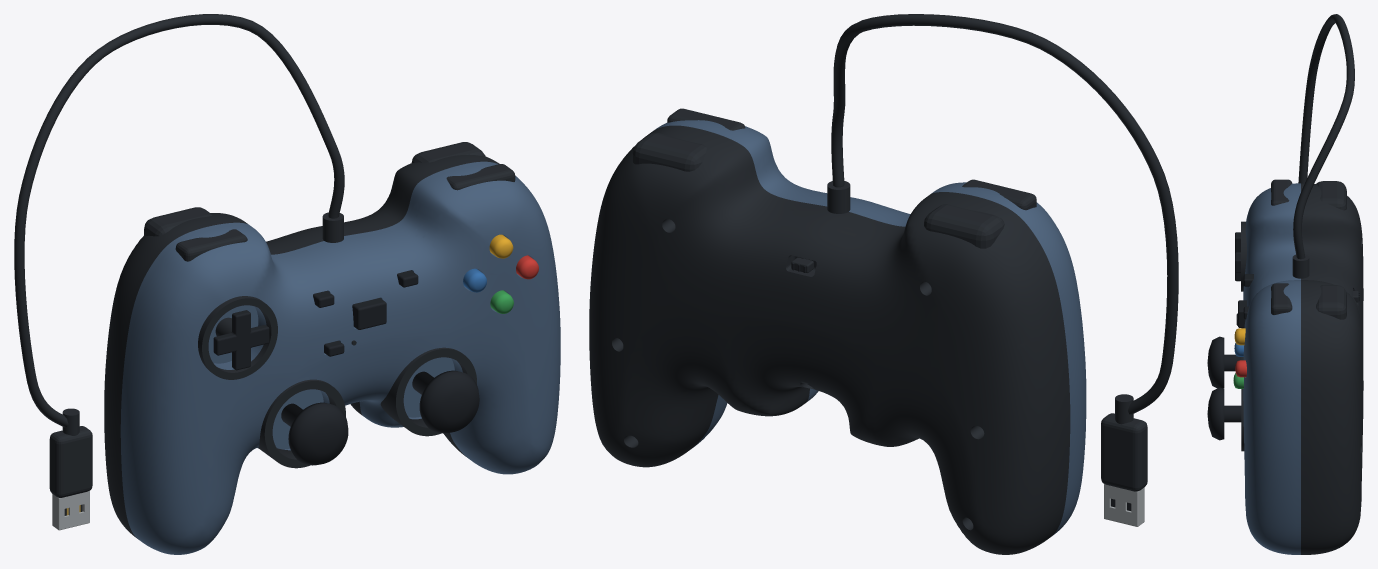
3 renders of one model, left to right at view 1: azimuth 30°, elevation 25°; view 2: azimuth 150°, elevation 25°; view 3: azimuth 270°, elevation 25°, orthographic. The views are drawn at different scales.
Parts seen in each view (by area): view 1: Unified closed two-tone controller shell, Complete fixed controller cable, Captured analog stick and domed cap -0.025, Captured analog stick and domed cap 0.025, Generic USB cable plug molding, Circular D pad surround, Complete analog stick socket 0.025, Complete analog stick socket -0.025, Unmarked raised cross D pad, Generic hollow USB A plug shell, Upper shoulder bumper -0.051, Rear curved trigger -0.051 (+3 smaller); view 2: Unified closed two-tone controller shell, Complete fixed controller cable, Generic USB cable plug molding, Rear curved trigger -0.051, Rear curved trigger 0.051, Generic hollow USB A plug shell, Upper shoulder bumper -0.051; view 3: Unified closed two-tone controller shell, Complete fixed controller cable, Captured analog stick and domed cap 0.025, Captured analog stick and domed cap -0.025, Rear curved trigger 0.051, Rear curved trigger -0.051, Upper shoulder bumper 0.051, Upper shoulder bumper -0.051, Captured cable exit strain relief, Circular D pad surround, Unmarked raised cross D pad.
Boxes of the visible parts, x1,y1,x2,y2 form: Unified closed two-tone controller shell: (104, 154, 560, 554); Complete fixed controller cable: (14, 14, 344, 427); Captured analog stick and domed cap -0.025: (281, 402, 348, 465); Captured analog stick and domed cap 0.025: (412, 370, 479, 433); Generic USB cable plug molding: (49, 426, 92, 497); Circular D pad surround: (198, 296, 277, 379); Complete analog stick socket 0.025: (380, 347, 476, 436); Complete analog stick socket -0.025: (258, 379, 345, 468); Unmarked raised cross D pad: (213, 310, 269, 370); Generic hollow USB A plug shell: (52, 490, 89, 530); Upper shoulder bumper -0.051: (175, 229, 247, 261); Rear curved trigger -0.051: (144, 207, 212, 236); Unified closed two-tone controller shell: (589, 120, 1086, 554); Complete fixed controller cable: (831, 14, 1178, 414); Generic USB cable plug molding: (1101, 413, 1147, 491); Rear curved trigger -0.051: (924, 204, 1004, 248); Rear curved trigger 0.051: (632, 133, 706, 171); Generic hollow USB A plug shell: (1104, 484, 1144, 526); Upper shoulder bumper -0.051: (962, 179, 1036, 210); Unified closed two-tone controller shell: (1243, 183, 1363, 554); Complete fixed controller cable: (1293, 14, 1354, 259); Captured analog stick and domed cap 0.025: (1207, 387, 1241, 440); Captured analog stick and domed cap -0.025: (1207, 336, 1241, 388); Rear curved trigger 0.051: (1316, 285, 1346, 319); Rear curved trigger -0.051: (1316, 181, 1346, 210); Upper shoulder bumper 0.051: (1271, 283, 1292, 314); Upper shoulder bumper -0.051: (1271, 179, 1292, 205); Captured cable exit strain relief: (1292, 254, 1309, 278); Circular D pad surround: (1241, 221, 1246, 291); Unmarked raised cross D pad: (1235, 232, 1240, 281).
Bounding box in the file's own units: 0.2011 × 0.1815 × 0.0647.
